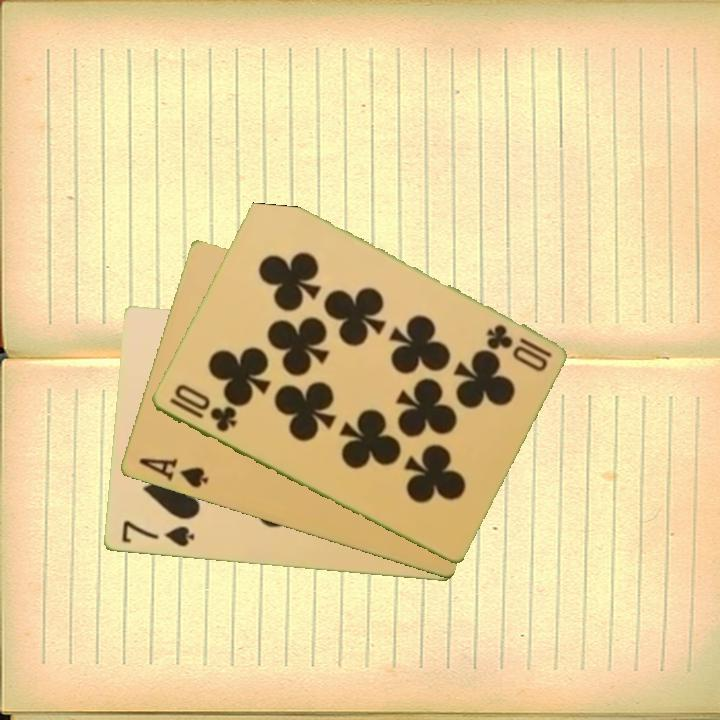10c: (165, 380, 240, 436), (481, 321, 555, 361)
7s: (117, 517, 197, 550)
As: (135, 454, 211, 492)
